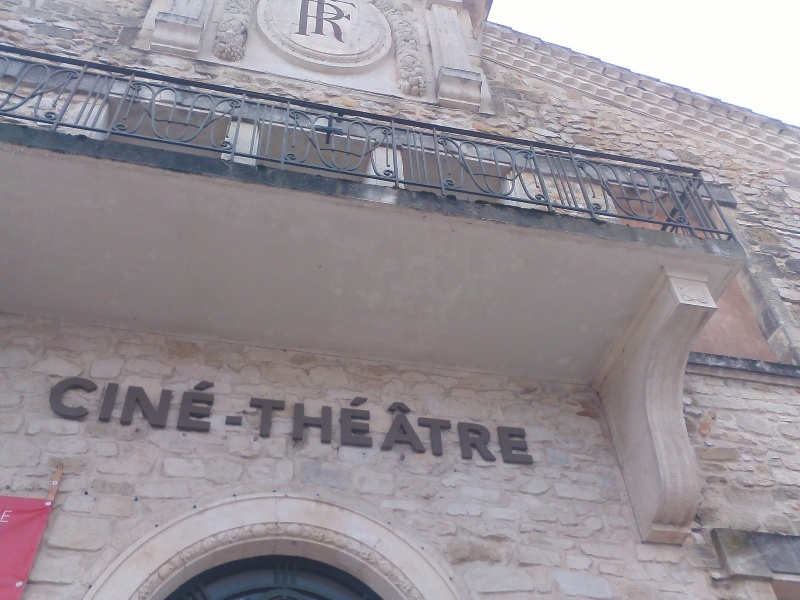text: (65, 365, 80, 470), (81, 365, 96, 470), (97, 365, 112, 470), (113, 365, 128, 470), (129, 365, 144, 470), (145, 365, 160, 470), (161, 365, 176, 470), (177, 365, 192, 470), (193, 365, 208, 470), (209, 365, 224, 470), (225, 365, 240, 470), (241, 365, 256, 470), (257, 365, 272, 470), (273, 365, 288, 470), (289, 365, 304, 470), (305, 365, 320, 470), (321, 365, 336, 470), (337, 365, 352, 470), (353, 365, 368, 470), (369, 365, 384, 470), (385, 365, 400, 470), (401, 365, 416, 470), (417, 365, 432, 470), (433, 365, 448, 470), (449, 365, 464, 470), (465, 365, 480, 470), (481, 365, 496, 470), (497, 365, 512, 470), (513, 365, 528, 470), (529, 365, 540, 470), (56, 365, 64, 470), (305, 1, 320, 44), (321, 1, 336, 44), (337, 1, 352, 44), (2, 509, 16, 524), (301, 1, 304, 44), (353, 1, 356, 44)
